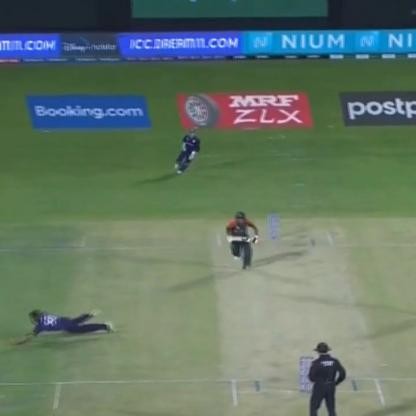pitch: (193, 214, 395, 412)
